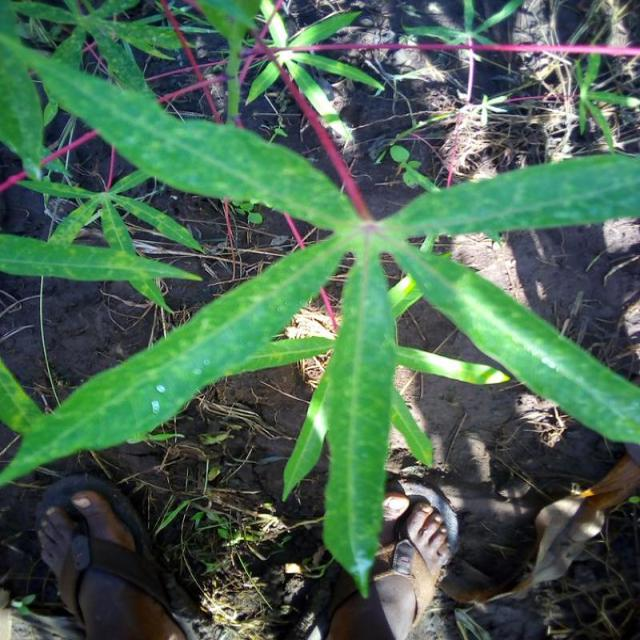cassava leaf: (1, 13, 638, 598), (0, 228, 354, 488)
